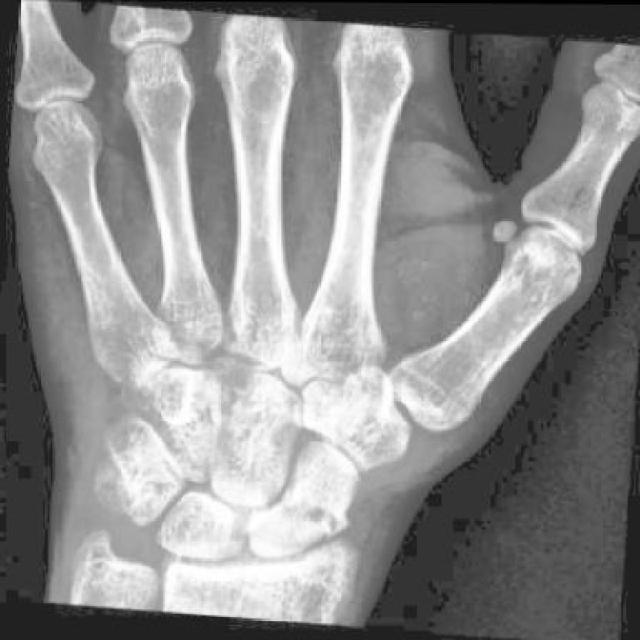Fracture: (290, 485, 356, 543)
